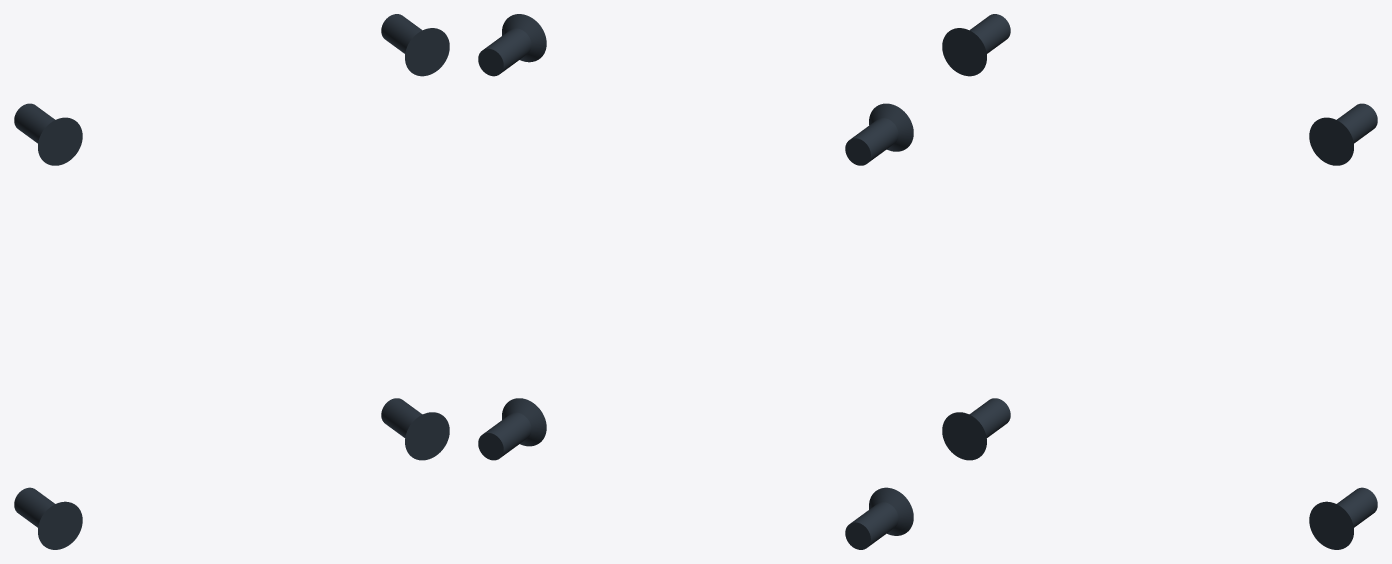
The model's file is Flexure_Fasteners.obj.
3 views of the same model, side by side, from view 1: azimuth 30°, elevation 25°; view 2: azimuth 150°, elevation 25°; view 3: azimuth 330°, elevation 25° (orthographic).
Parts seen in each view (by area): view 1: Flexure_Fasteners; view 2: Flexure_Fasteners; view 3: Flexure_Fasteners.
Part boxes in pixels (<box>): Flexure_Fasteners: <box>14,14,449,549</box>; Flexure_Fasteners: <box>478,14,913,549</box>; Flexure_Fasteners: <box>942,14,1377,549</box>.
Size of the model in its own units: 25.71 by 25.71 by 3.6.
